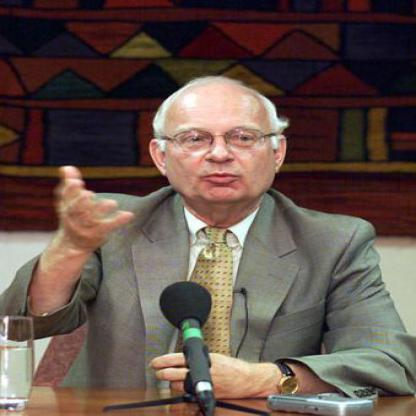face: (159, 81, 282, 208)
